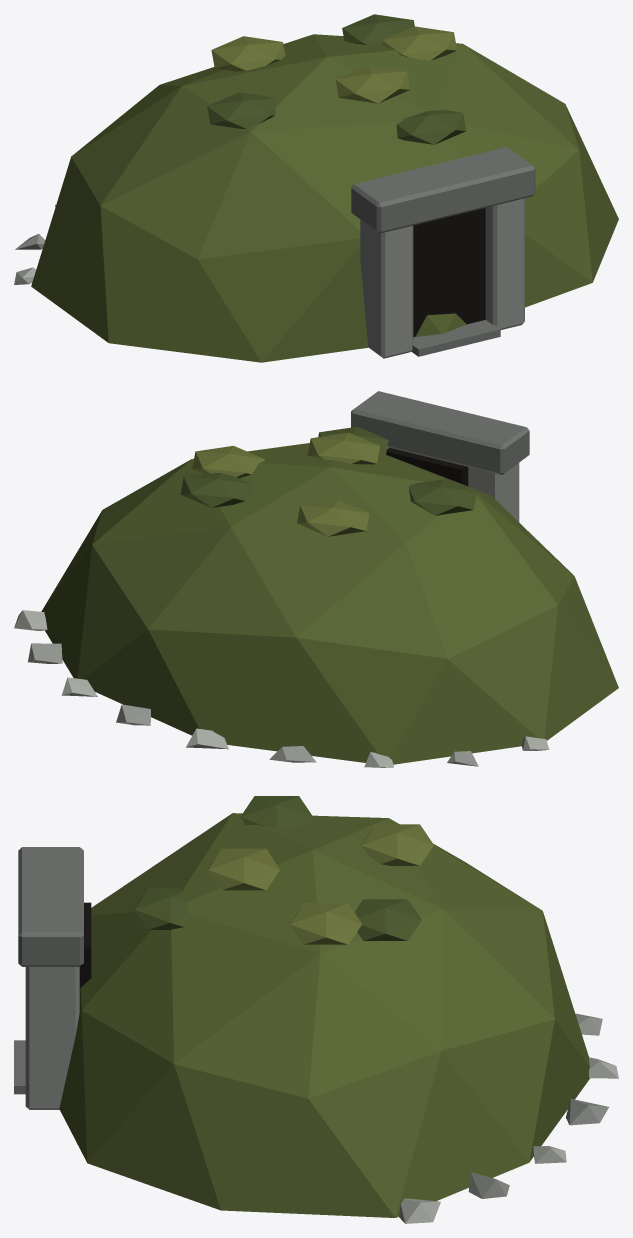
Rendered from forest_barrow.glb.
3 views of the same model, one above another, from view 1: azimuth 30°, elevation 25°; view 2: azimuth 150°, elevation 25°; view 3: azimuth 270°, elevation 25° (orthographic). The views are drawn at different scales.
Visible parts, largest first — view 1: forest_barrow; view 2: forest_barrow; view 3: forest_barrow.
Boxes of the visible parts, x1,y1,x2,y2 form: forest_barrow: [14, 14, 618, 362]; forest_barrow: [14, 391, 618, 767]; forest_barrow: [14, 796, 618, 1223].
Bounding box in the file's own units: 9.35 × 3.18 × 7.83.
